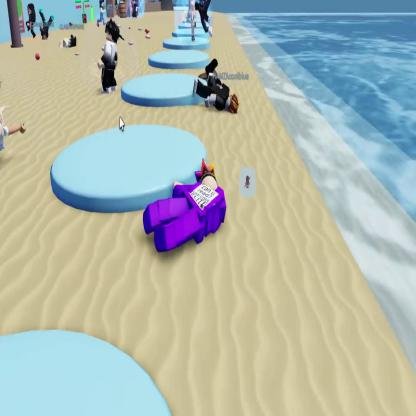Roblox-Avatar: (144, 158, 228, 254), (194, 73, 240, 115), (98, 18, 121, 95), (40, 9, 56, 41), (27, 4, 37, 39), (98, 1, 109, 27), (61, 35, 78, 50)
